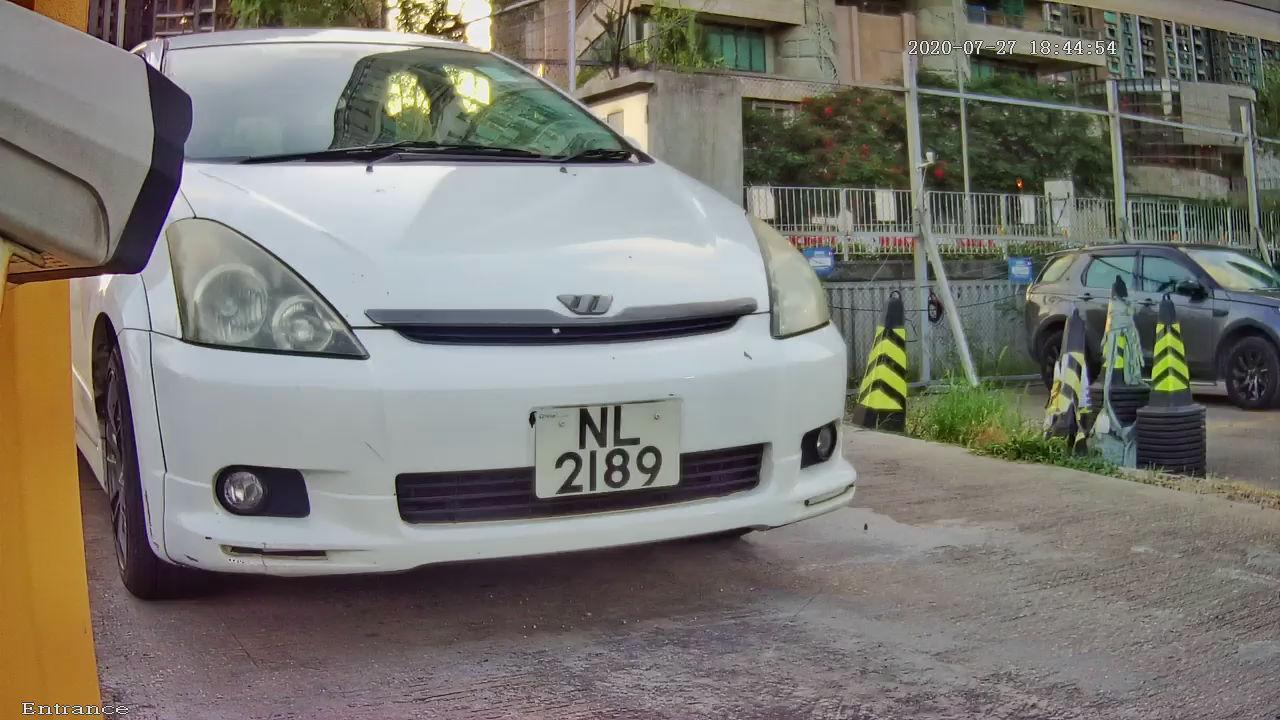privatecar: (86, 20, 921, 611)
